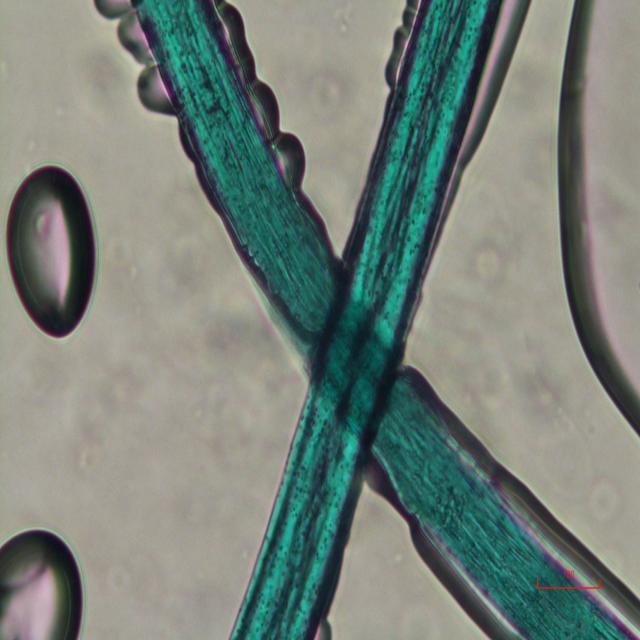Air bubble: (555, 1, 640, 439), (5, 163, 103, 347), (0, 524, 86, 638), (136, 63, 172, 119), (118, 15, 152, 65), (278, 124, 304, 187)
Background material: (170, 295, 292, 455), (430, 229, 502, 374), (64, 19, 138, 118), (588, 470, 622, 527), (321, 76, 351, 130)
Microfibre: (130, 1, 636, 637), (224, 1, 498, 638)
